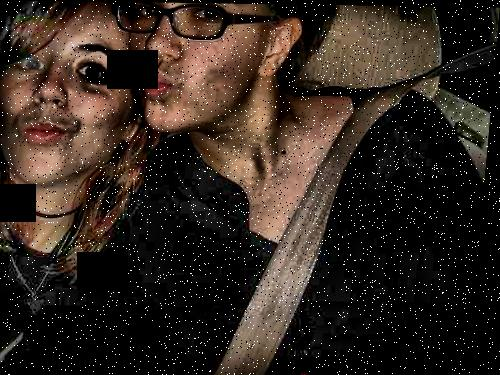seatbelt: (239, 90, 398, 368)
